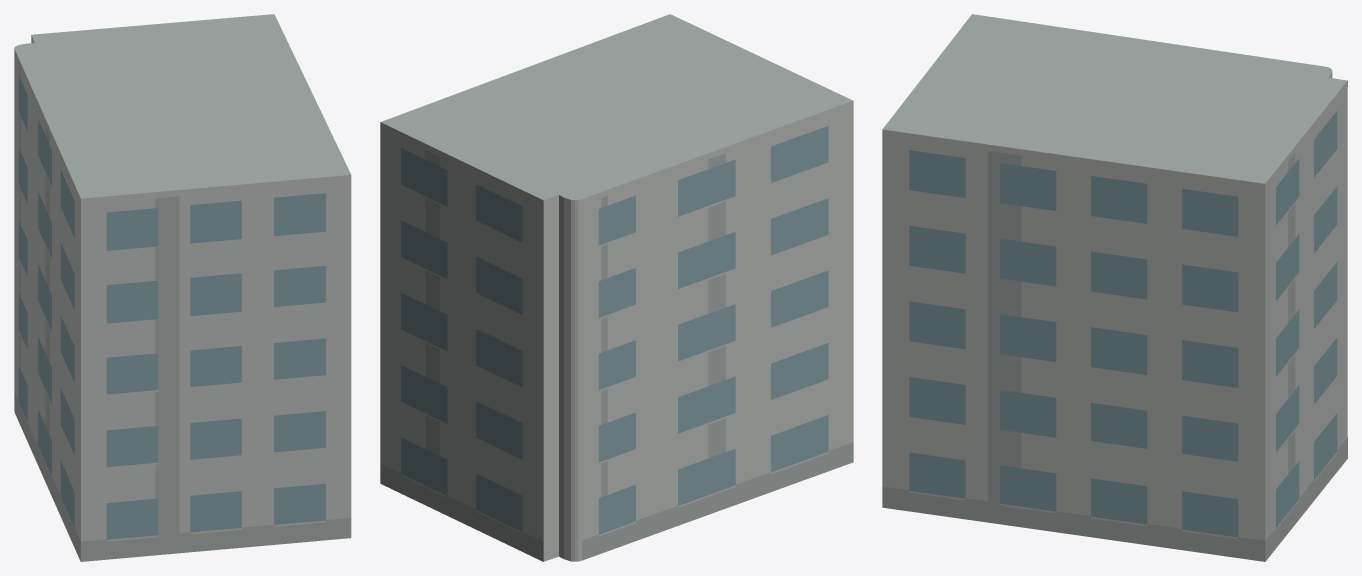
File: survey-upis-32884208.glb
The picture shows the model from 3 angles, left to right: view 1: azimuth 30°, elevation 25°; view 2: azimuth 150°, elevation 25°; view 3: azimuth 270°, elevation 25°; orthographic projection. The views are drawn at different scales.
Visible parts, largest first — view 1: survey-upis-32884208.tmp; view 2: survey-upis-32884208.tmp; view 3: survey-upis-32884208.tmp.
Boxes of the visible parts, x1=… form: survey-upis-32884208.tmp: x1=14, y1=14, x2=351, y2=561; survey-upis-32884208.tmp: x1=380, y1=14, x2=853, y2=561; survey-upis-32884208.tmp: x1=882, y1=14, x2=1347, y2=561.
Bounding box in the file's own units: 13.69 × 14.2 × 15.85.
